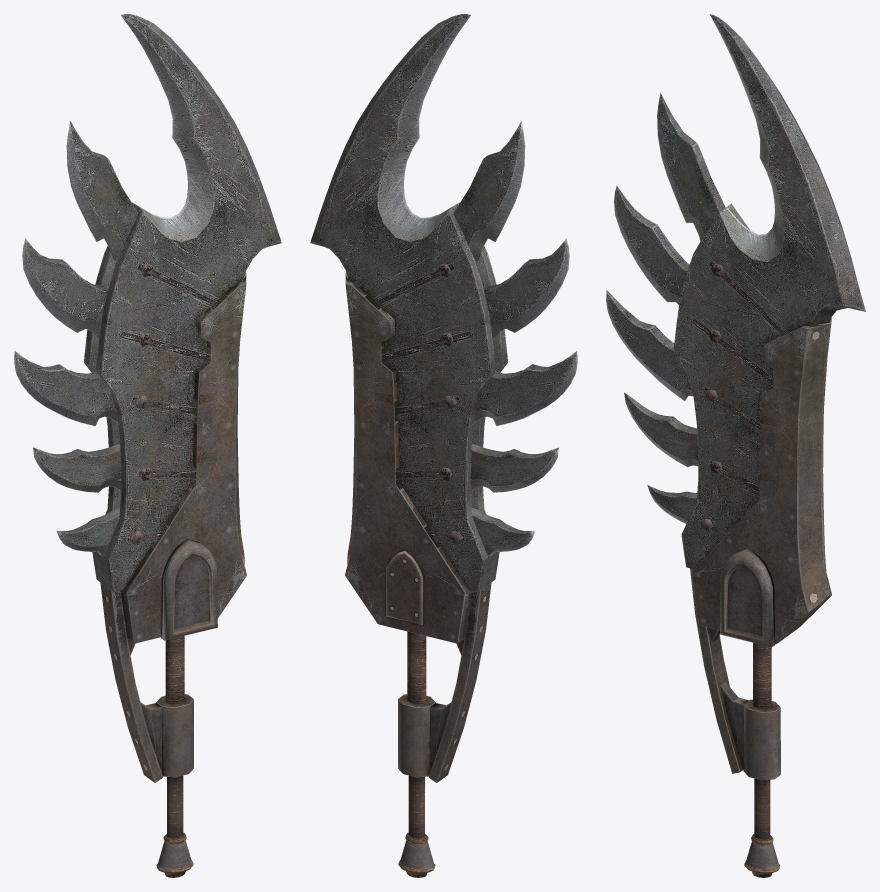
The model's file is bs_two001.obj.
The picture shows the model from 3 angles, left to right: view 1: azimuth 30°, elevation 25°; view 2: azimuth 150°, elevation 25°; view 3: azimuth 330°, elevation 25°; orthographic projection. The views are drawn at different scales.
Visible parts, largest first — view 1: bs_two001_000_LOD_1, bs_two001_001_LOD_1; view 2: bs_two001_000_LOD_1, bs_two001_001_LOD_1; view 3: bs_two001_000_LOD_1, bs_two001_001_LOD_1.
Boxes of the visible parts, x1,y1,x2,y2 form: bs_two001_000_LOD_1: (14,14,281,591); bs_two001_001_LOD_1: (100,272,246,877); bs_two001_000_LOD_1: (310,14,577,591); bs_two001_001_LOD_1: (345,272,491,877); bs_two001_000_LOD_1: (606,14,865,569); bs_two001_001_LOD_1: (690,317,831,877).
Bounding box in the file's own units: 87.27 × 272 × 18.36.
